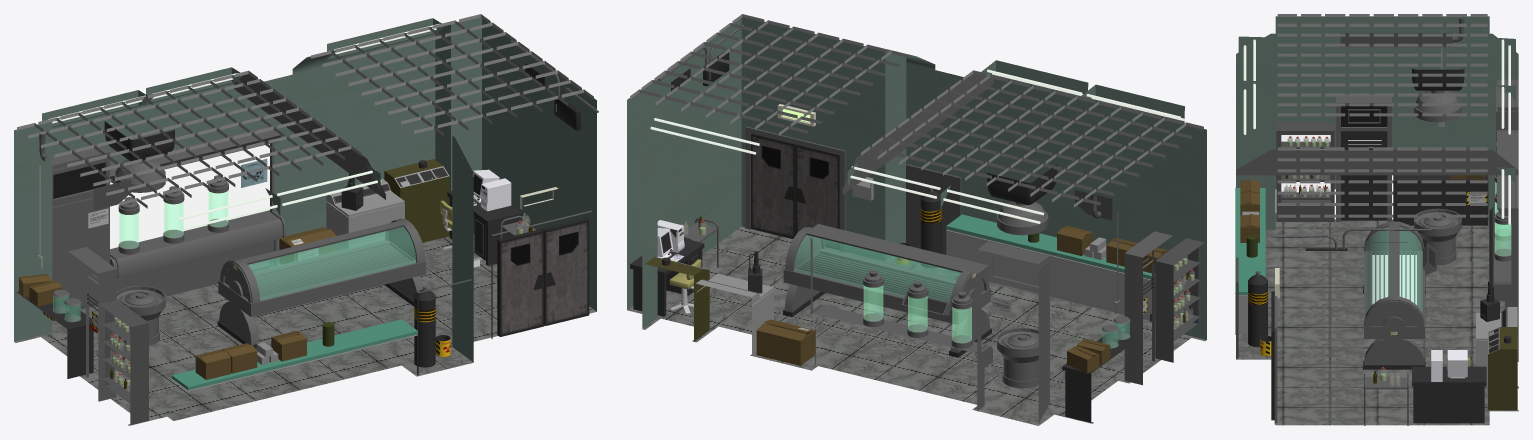
Rendered from small.glb.
3 views of the same model, side by side, from view 1: azimuth 30°, elevation 25°; view 2: azimuth 150°, elevation 25°; view 3: azimuth 270°, elevation 25° (orthographic). The views are drawn at different scales.
Parts seen in each view (by area): view 1: Box12610_Material #939_0, Box12611_Material #851_0, Object6310_Material #938_0, Box12624_Material #940_0, Object6312_Material #532_0, Object5637_Material #600_0, Cylinder3980_Material #916_0, Box12626_Material #942_0, Box12627_Material #457_0, Box12642_Material #452_0, Object6311_Material #941_0, Box12634_Material #944_0 (+10 smaller); view 2: Box12610_Material #939_0, Box12611_Material #851_0, Object6310_Material #938_0, Box12624_Material #940_0, Box12627_Material #457_0, Object5637_Material #600_0, Cylinder3980_Material #916_0, Box12626_Material #942_0, Box12642_Material #452_0, Cylinder4023_Material #639_0, Object6311_Material #941_0, Cylinder4014_Material #248_0 (+6 smaller); view 3: Object6310_Material #938_0, Box12611_Material #851_0, Box12610_Material #939_0, Box12624_Material #940_0, Box12626_Material #942_0, Box12627_Material #457_0, Box12620_Material #908_0, Cylinder3980_Material #916_0, Box12634_Material #944_0, Object6311_Material #941_0, Cylinder4023_Material #639_0, Object6317_Material #336_0 (+9 smaller).
Part boxes in pixels (x1=…): Box12610_Material #939_0: x1=14, y1=17, x2=596, y2=362; Box12611_Material #851_0: x1=52, y1=40, x2=598, y2=401; Object6310_Material #938_0: x1=14, y1=234, x2=596, y2=425; Box12624_Material #940_0: x1=17, y1=14, x2=593, y2=391; Object6312_Material #532_0: x1=110, y1=144, x2=269, y2=248; Object5637_Material #600_0: x1=501, y1=222, x2=587, y2=334; Cylinder3980_Material #916_0: x1=53, y1=227, x2=415, y2=321; Box12626_Material #942_0: x1=16, y1=63, x2=544, y2=378; Box12627_Material #457_0: x1=39, y1=134, x2=472, y2=424; Box12642_Material #452_0: x1=19, y1=227, x2=337, y2=379; Object6311_Material #941_0: x1=172, y1=319, x2=417, y2=390; Box12634_Material #944_0: x1=384, y1=159, x2=449, y2=242; Box12610_Material #939_0: x1=627, y1=17, x2=1206, y2=339; Box12611_Material #851_0: x1=658, y1=25, x2=1172, y2=423; Object6310_Material #938_0: x1=627, y1=226, x2=1206, y2=425; Box12624_Material #940_0: x1=630, y1=14, x2=1203, y2=354; Box12627_Material #457_0: x1=906, y1=164, x2=1204, y2=362; Object5637_Material #600_0: x1=752, y1=136, x2=837, y2=247; Cylinder3980_Material #916_0: x1=794, y1=235, x2=1129, y2=347; Box12626_Material #942_0: x1=662, y1=68, x2=1153, y2=422; Box12642_Material #452_0: x1=756, y1=226, x2=1167, y2=373; Cylinder4023_Material #639_0: x1=650, y1=68, x2=1185, y2=223; Object6311_Material #941_0: x1=946, y1=214, x2=1155, y2=279; Cylinder4014_Material #248_0: x1=863, y1=285, x2=971, y2=342; Object6310_Material #938_0: x1=1236, y1=213, x2=1518, y2=425; Box12611_Material #851_0: x1=1236, y1=79, x2=1518, y2=425; Box12610_Material #939_0: x1=1236, y1=16, x2=1518, y2=230; Box12624_Material #940_0: x1=1235, y1=14, x2=1517, y2=386; Box12626_Material #942_0: x1=1248, y1=68, x2=1511, y2=369; Box12627_Material #457_0: x1=1236, y1=18, x2=1464, y2=358; Box12620_Material #908_0: x1=1412, y1=366, x2=1486, y2=423; Cylinder3980_Material #916_0: x1=1366, y1=227, x2=1422, y2=312; Box12634_Material #944_0: x1=1488, y1=327, x2=1517, y2=410; Object6311_Material #941_0: x1=1235, y1=187, x2=1265, y2=294; Cylinder4023_Material #639_0: x1=1243, y1=39, x2=1510, y2=224; Object6317_Material #336_0: x1=1372, y1=255, x2=1416, y2=304.
Size of the model in its own units: 6.77 by 3 by 3.79.
45 materials, 8 textured.
